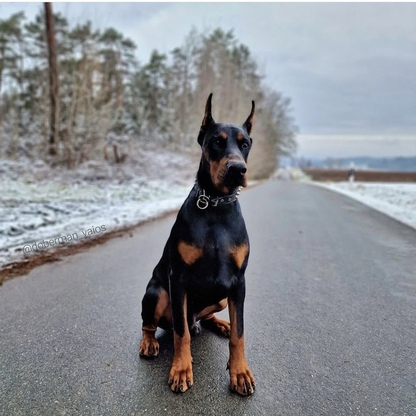doberman: (132, 92, 263, 404)
